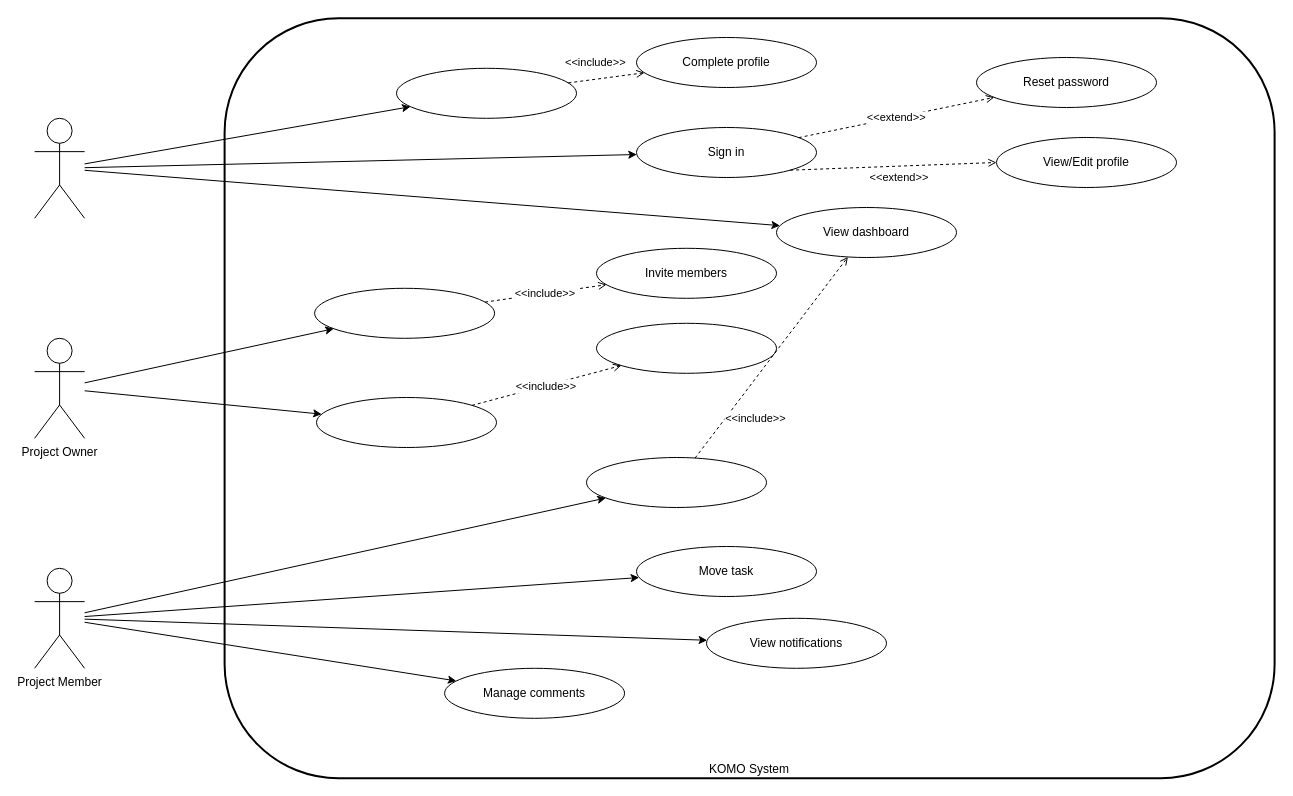
The diagram is 1293 pixels wide and 796 high, and some of its shapes have lost their labels. The centre of each missing label's shape, as x and y in pixels:
"Assign task" belongs at point (686, 347).
"Create project" belongs at point (404, 312).
"Create task" belongs at point (406, 422).
"End User" belongs at point (59, 167).
"Open project board" belongs at point (676, 482).
"Sign up" belongs at point (486, 92).
